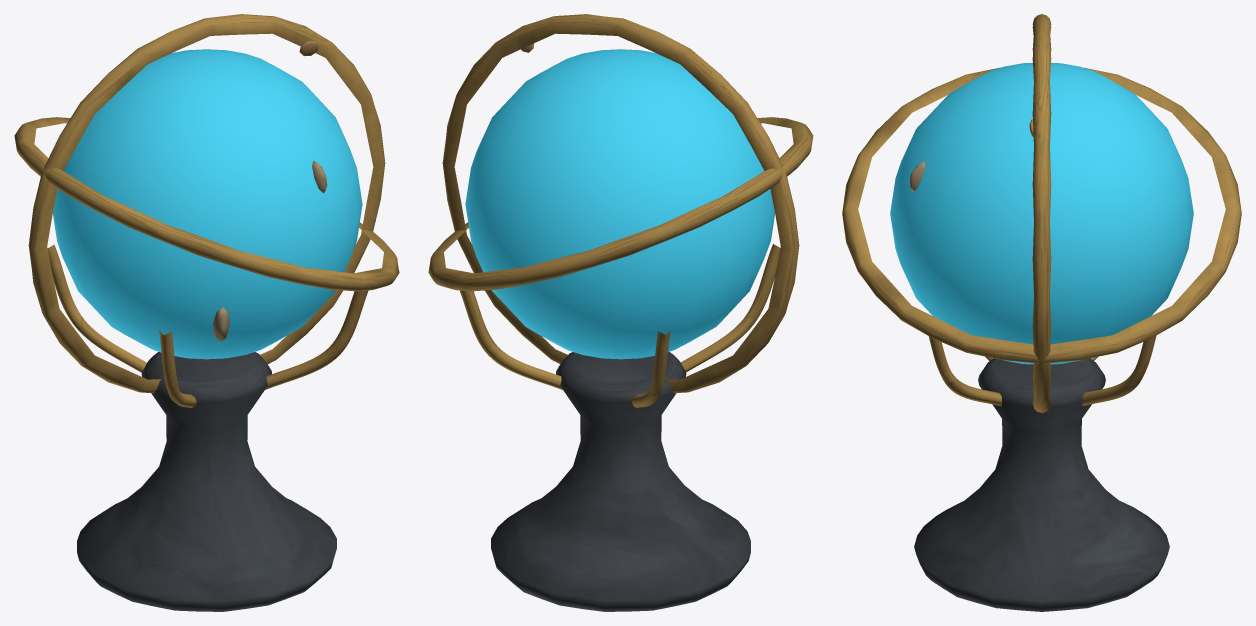
File: relic-orb.lod1.glb
3 views of the same model, side by side, from view 1: azimuth 30°, elevation 25°; view 2: azimuth 150°, elevation 25°; view 3: azimuth 270°, elevation 25° (orthographic). The views are drawn at different scales.
Parts seen in each view (by area): view 1: crystal / faceted crystal, darksteel / oil-blackened fittings, brass / polished brass furniture, setting claw; view 2: crystal / faceted crystal, darksteel / oil-blackened fittings, brass / polished brass furniture; view 3: crystal / faceted crystal, darksteel / oil-blackened fittings, brass / polished brass furniture.
Part boxes in pixels (x1,y1,x2,y2): crystal / faceted crystal: (53,49,362,359); darksteel / oil-blackened fittings: (77,352,336,611); brass / polished brass furniture: (14,14,399,407); setting claw: (213,160,327,341); crystal / faceted crystal: (465,49,774,359); darksteel / oil-blackened fittings: (491,352,750,611); brass / polished brass furniture: (428,14,813,407); crystal / faceted crystal: (890,62,1193,364); darksteel / oil-blackened fittings: (914,358,1169,611); brass / polished brass furniture: (842,14,1241,412).
Size of the model in its own units: 0.25 by 0.3662 by 0.25.
Materials: 6 (2 with a texture image).
